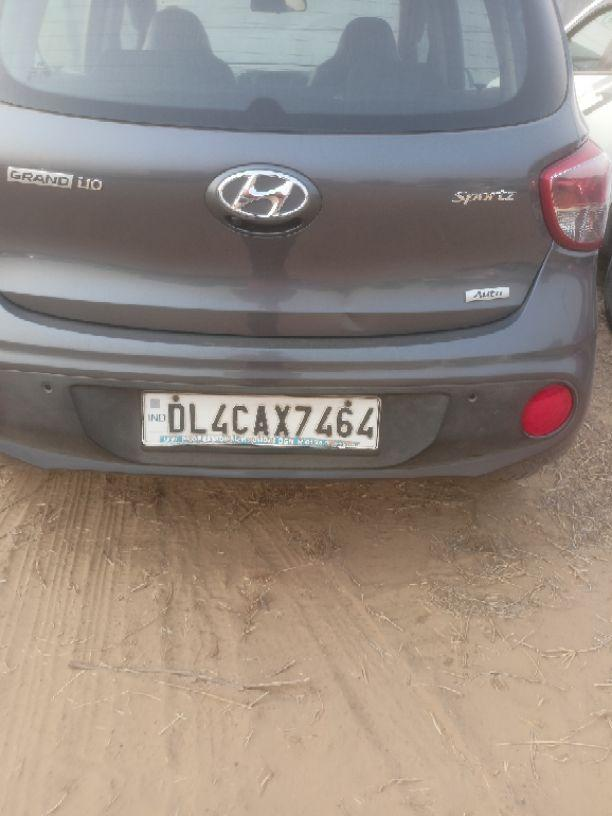license_plate: (139, 389, 382, 453)
